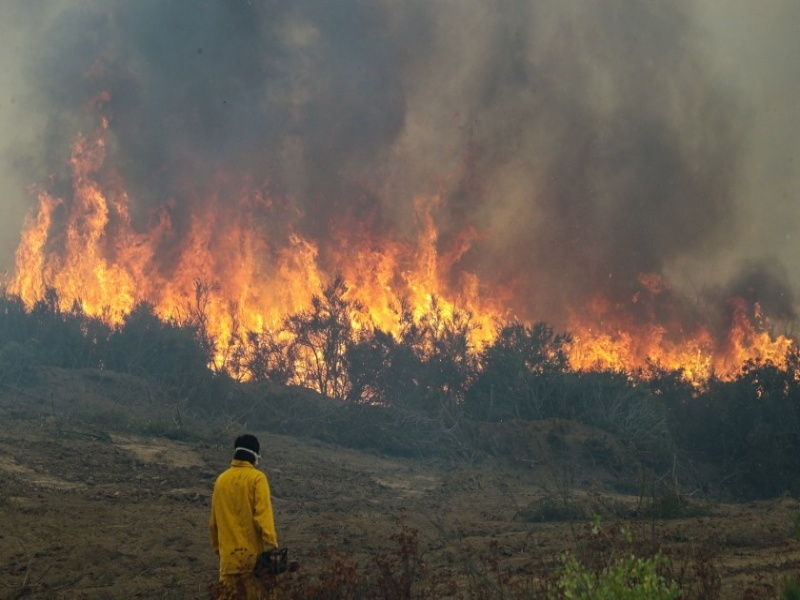smoke: (85, 1, 758, 302)
